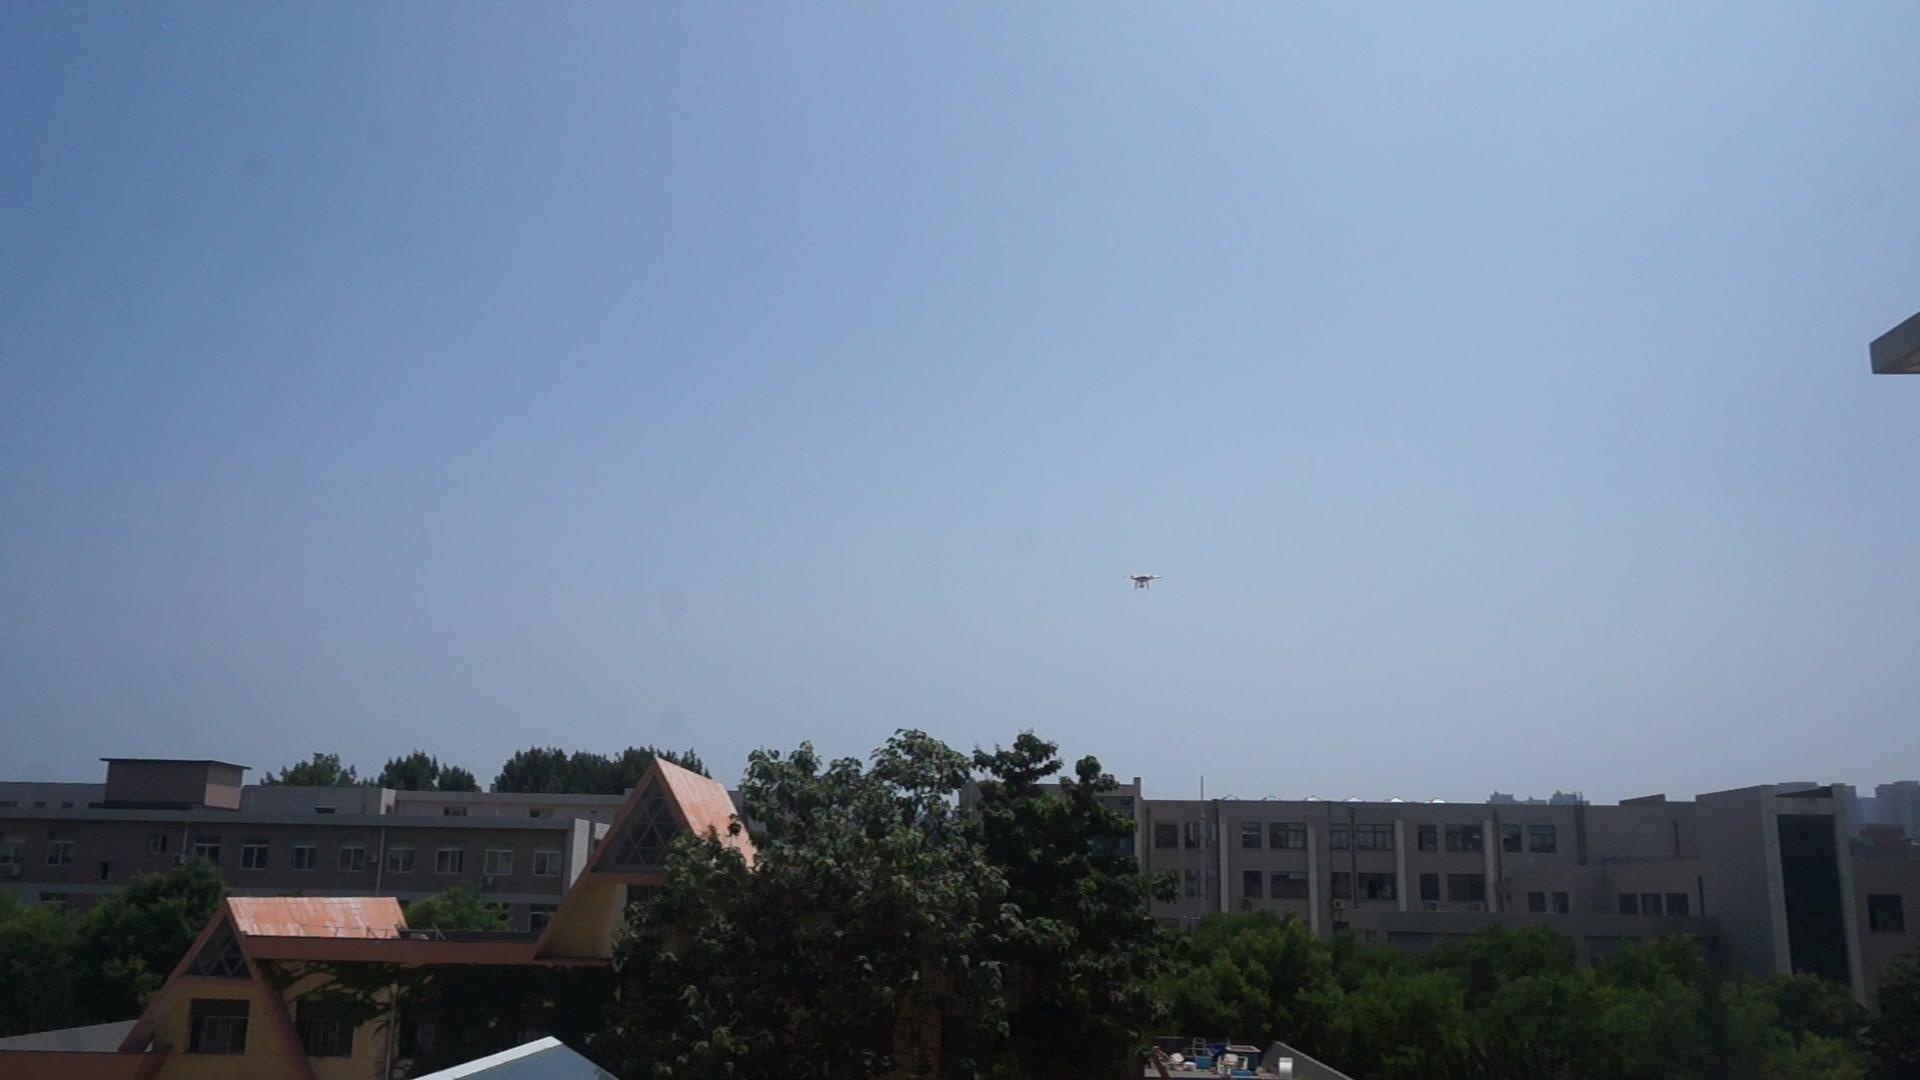UAV: (1124, 575, 1163, 591)
